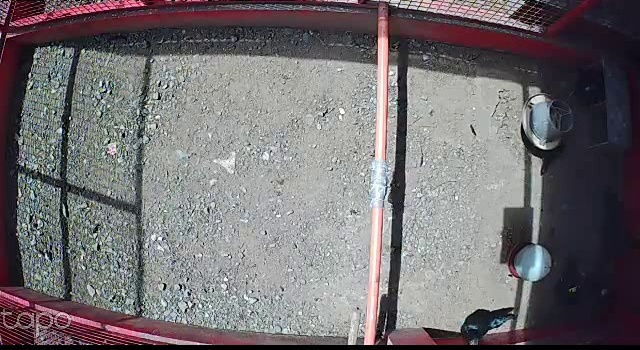Chicken: (459, 312, 514, 347)
Drinker: (509, 240, 553, 286)
Feeder: (523, 91, 576, 151)
Saddle_Color_Yellow: (567, 286, 579, 293)
